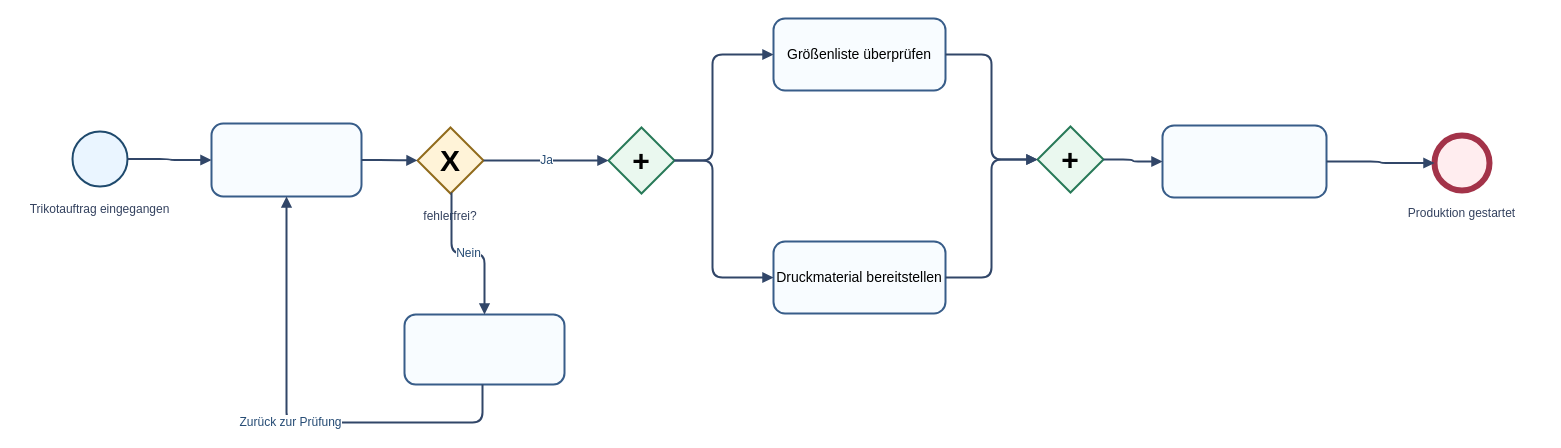
The diagram is 1561 pixels wide and 448 high, and some of its shapes have lost their labels. The centre of each missing label's shape, as x and y in pixels:
"Entwurf prüfen" goes at point 286,159.
"Entwurf überarbeiten" goes at point 484,349.
"Produktion starten" goes at point 1244,161.
